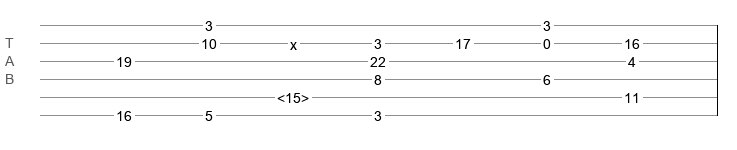0: (543, 36, 551, 46)
10: (201, 36, 217, 46)
11: (624, 90, 640, 100)
16: (116, 108, 132, 118), (624, 36, 640, 46)
17: (455, 36, 471, 46)
19: (116, 54, 132, 64)
22: (370, 54, 386, 64)
3: (205, 18, 213, 28), (374, 108, 382, 118), (374, 36, 382, 46), (543, 18, 551, 28)
4: (628, 54, 636, 64)
5: (205, 108, 213, 118)
6: (543, 72, 551, 82)
8: (374, 72, 382, 82)
harmonic: (277, 90, 309, 100)
x: (290, 37, 297, 45)
